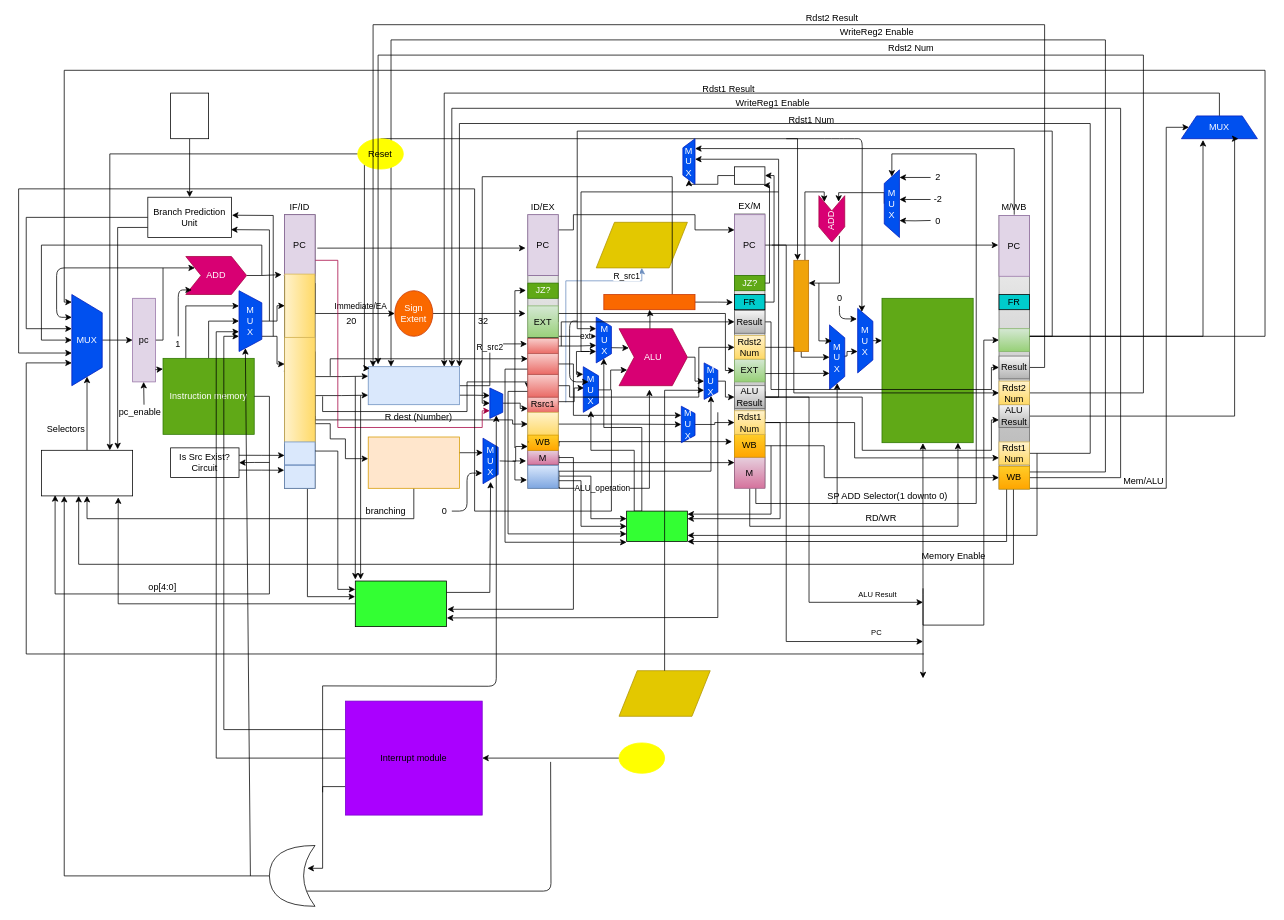
Image size: 1284x920. Some labels were removed from this diagram. Each missing label, with the centre of its shape:
Cache Memory: pixel 189 115
combinational circuit: pixel 87 473
Data Memory: pixel 927 370
Decoding circuit: pixel 413 462
EX: pixel 542 476
Flag Register: pixel 649 302
Forwarding Unit: pixel 656 526
Hazard Detection Unit: pixel 400 603
INPUT_PORT: pixel 664 693
Instruction falling: pixel 299 305
Instruction rising: pixel 299 390
INTR: pixel 641 757
Mem Result: pixel 1013 340
OR: pixel 292 875
OUTPUT_PORT: pixel 641 245
Rdst Num: pixel 542 424
Register File: pixel 413 385
Rsrc1 Num: pixel 542 385
Rsrc2: pixel 542 346
Rsrc2 Num: pixel 542 363
SP: pixel 801 306
Src1 ?: pixel 299 453
Src2 ?: pixel 299 476
